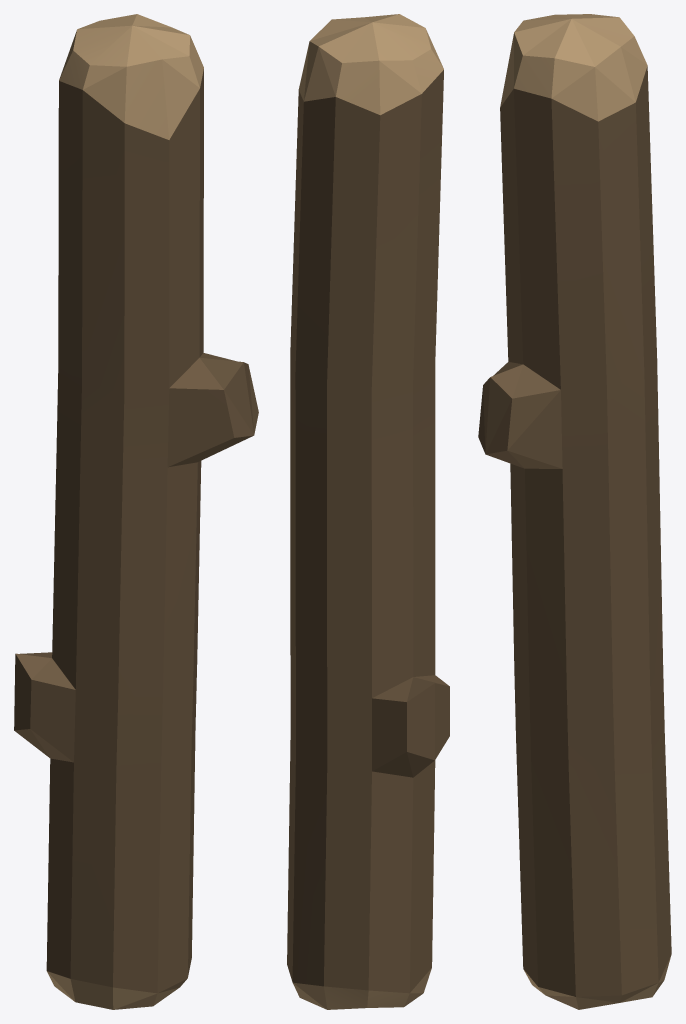
The model's file is Espiga_02.glb.
The picture shows the model from 3 angles, left to right: view 1: azimuth 30°, elevation 25°; view 2: azimuth 150°, elevation 25°; view 3: azimuth 270°, elevation 25°; orthographic projection.
Visible parts, largest first — view 1: SM_Prop_Fence_Wood_Pole_01_1; view 2: SM_Prop_Fence_Wood_Pole_01_1; view 3: SM_Prop_Fence_Wood_Pole_01_1.
Boxes of the visible parts, bbox=[...] form: SM_Prop_Fence_Wood_Pole_01_1: bbox=[14, 14, 258, 1009]; SM_Prop_Fence_Wood_Pole_01_1: bbox=[287, 14, 449, 1009]; SM_Prop_Fence_Wood_Pole_01_1: bbox=[478, 14, 671, 1009].
Bounding box in the file's own units: 0.6866 × 3.45 × 0.6217.
1 material, 1 textured.
